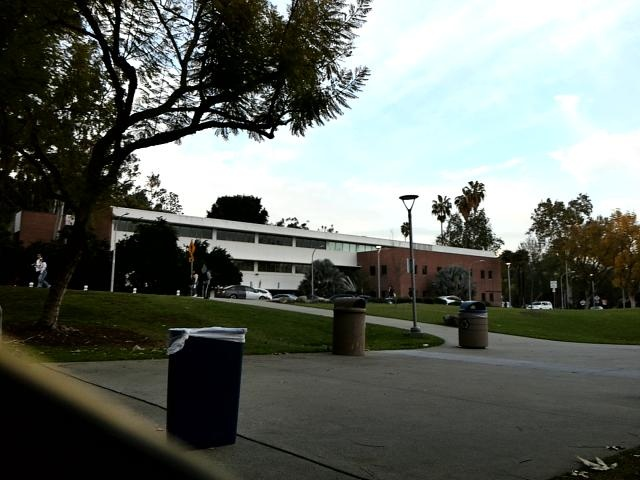trashcan_open: (166, 323, 246, 446)
